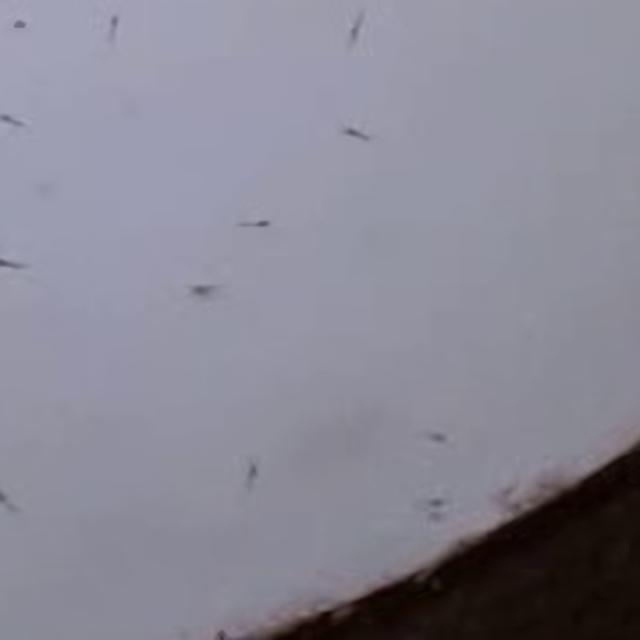shrimp-seed: (96, 6, 148, 70), (404, 413, 461, 464), (212, 451, 262, 494), (326, 116, 387, 150), (0, 248, 43, 288), (0, 477, 30, 532), (172, 288, 252, 308), (0, 100, 39, 140), (238, 209, 288, 238), (413, 489, 452, 520), (330, 16, 380, 40)
